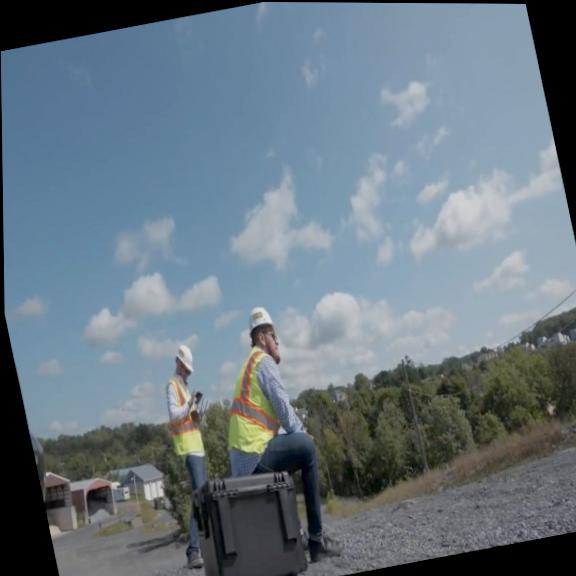safety_vest: (206, 342, 286, 457), (160, 375, 205, 457)
